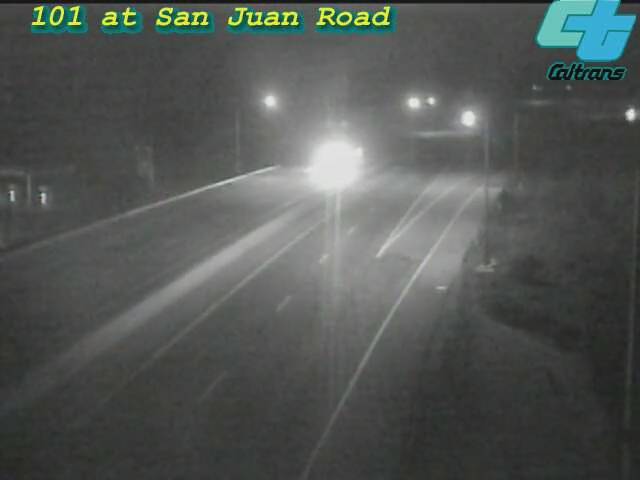vehicle: (291, 122, 371, 202), (443, 94, 493, 144), (605, 91, 640, 141)
